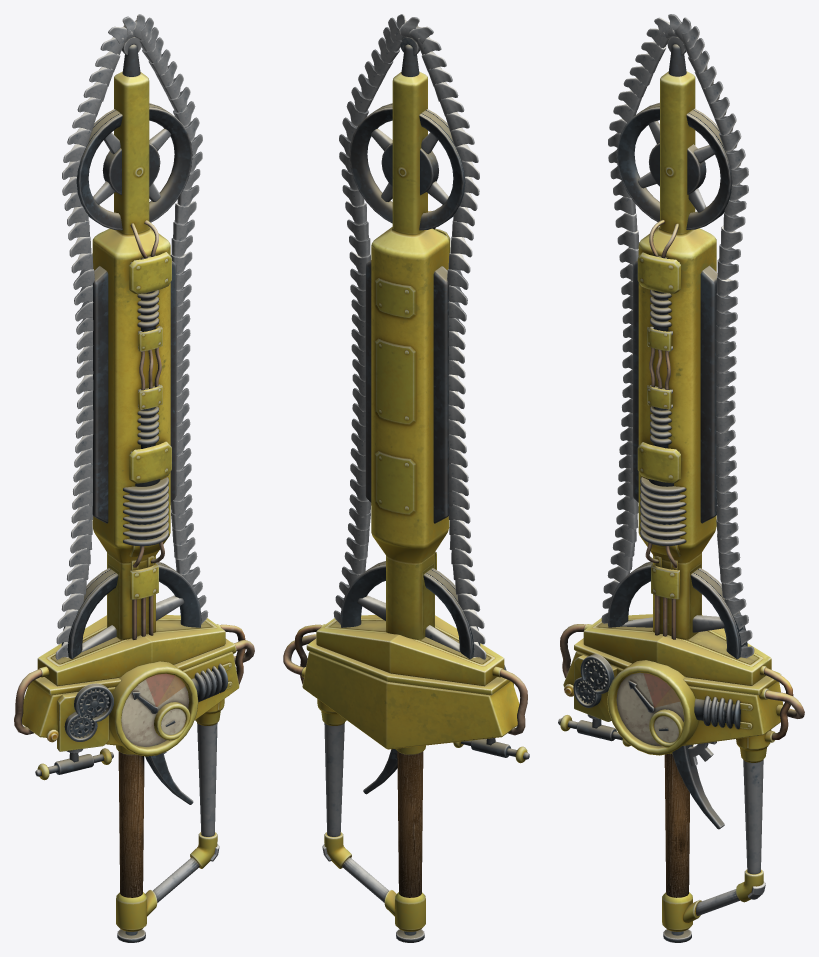
File: SM_Sword_37.gltf
The picture shows the model from 3 angles, left to right: view 1: azimuth 30°, elevation 25°; view 2: azimuth 150°, elevation 25°; view 3: azimuth 330°, elevation 25°; orthographic projection.
Parts seen in each view (by area): view 1: SM_Sword_37; view 2: SM_Sword_37; view 3: SM_Sword_37.
Boxes of the visible parts, <box> form: SM_Sword_37: <box>14,14,254,942</box>; SM_Sword_37: <box>283,14,529,942</box>; SM_Sword_37: <box>558,14,804,942</box>.
Size of the model in its own units: 0.4083 by 1.5 by 0.1513.
1 material, 1 textured.
